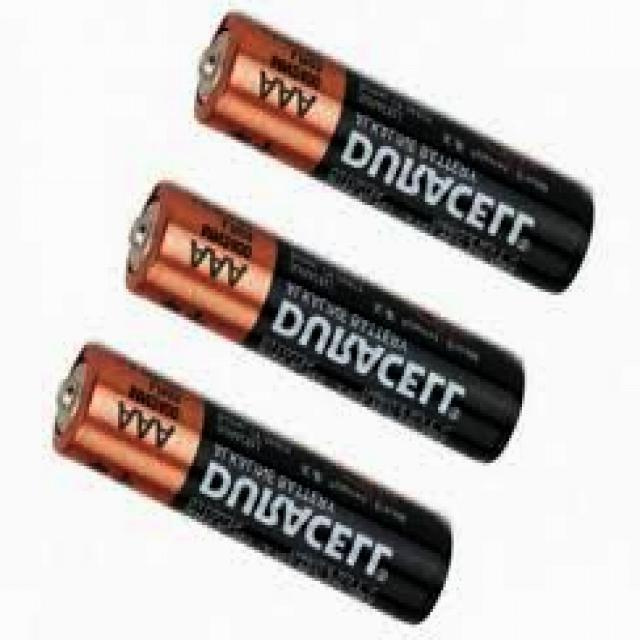battery: (126, 179, 525, 465), (194, 13, 593, 295), (53, 344, 453, 625)
